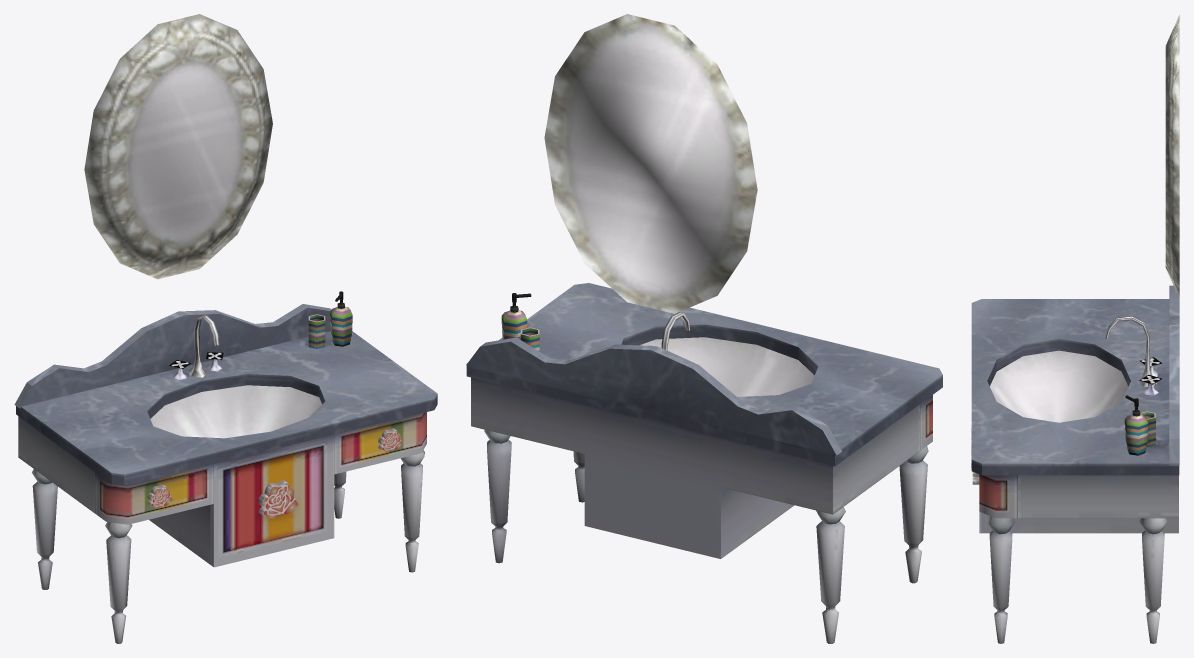
File: furni_0200623.FBX
3 renders of one model, left to right at view 1: azimuth 30°, elevation 25°; view 2: azimuth 150°, elevation 25°; view 3: azimuth 270°, elevation 25°, orthographic. The views are drawn at different scales.
Visible parts, largest first — view 1: furni_0200623; view 2: furni_0200623; view 3: furni_0200623.
Boxes of the visible parts, bbox=[...] form: furni_0200623: bbox=[14, 14, 437, 643]; furni_0200623: bbox=[466, 14, 942, 643]; furni_0200623: bbox=[971, 15, 1179, 643].
Size of the model in its own units: 152 by 233 by 80.91.
1 material, 1 textured.
